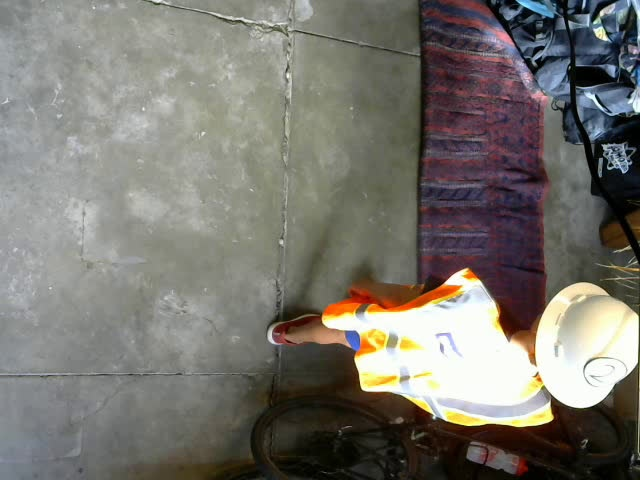two: (583, 357, 625, 387)
